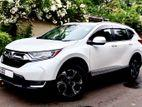car: (0, 22, 142, 99)
